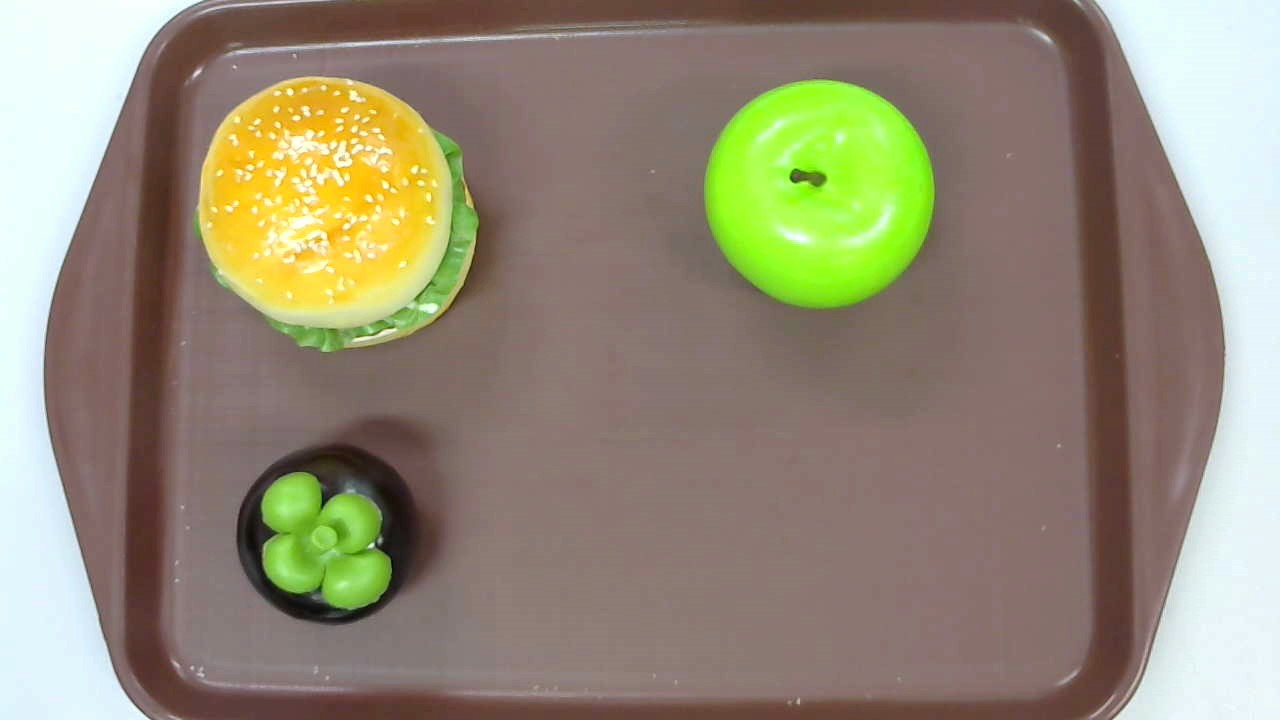green apple: (703, 78, 935, 309)
hamburger: (195, 77, 482, 352)
mangosteen: (235, 444, 422, 627)
